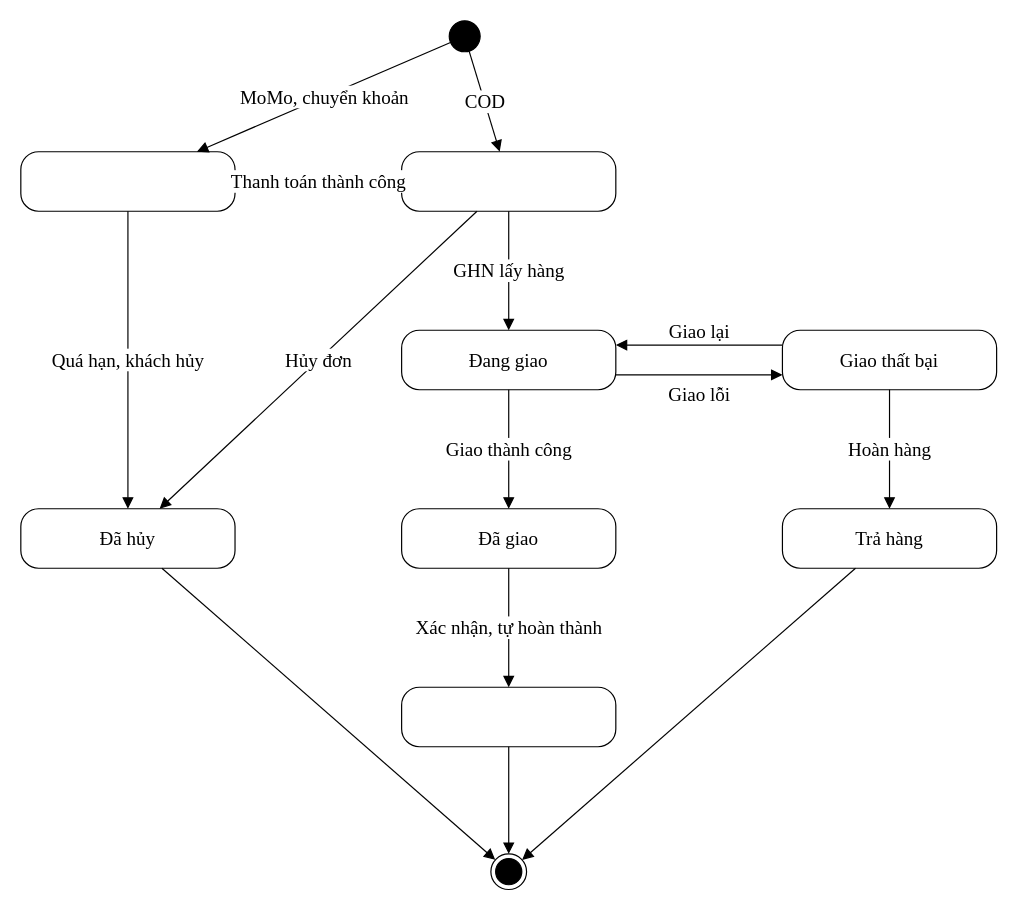
Some shapes in this 1017 by 910 pixel diagram are drawn without their labels. Here are the shapes that lost their labels. From the top down, the centre of each, then its label:
pixel 127 181: Chờ thanh toán
pixel 508 181: Chờ lấy hàng
pixel 508 716: Hoàn thành
